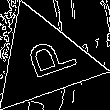P_W: (12, 34, 75, 87)
